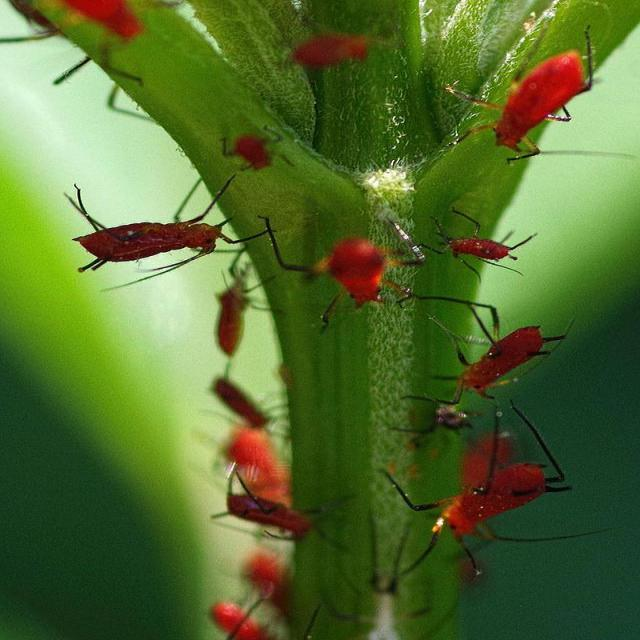Aphids: (49, 166, 269, 291), (446, 33, 596, 172)
